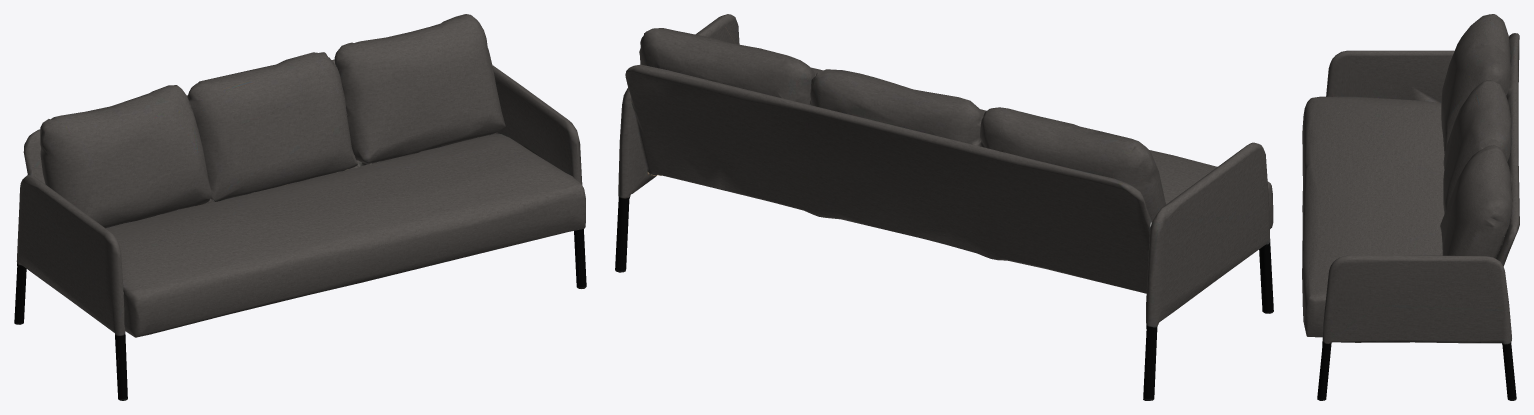
Rendered from glostad_sofa_3_osobowa_40573285.glb.
3 renders of one model, left to right at view 1: azimuth 30°, elevation 25°; view 2: azimuth 150°, elevation 25°; view 3: azimuth 270°, elevation 25°, orthographic. The views are drawn at different scales.
Parts seen in each view (by area): view 1: glostad_sofa_3_osobowa_40573285; view 2: glostad_sofa_3_osobowa_40573285; view 3: glostad_sofa_3_osobowa_40573285.
Boxes of the visible parts, <box> form: glostad_sofa_3_osobowa_40573285: <box>14,14,586,400</box>; glostad_sofa_3_osobowa_40573285: <box>615,14,1273,400</box>; glostad_sofa_3_osobowa_40573285: <box>1302,14,1519,400</box>.
Bounding box in the file's own units: 1.79 × 0.7625 × 0.7823.
Materials: 1 (1 with a texture image).
